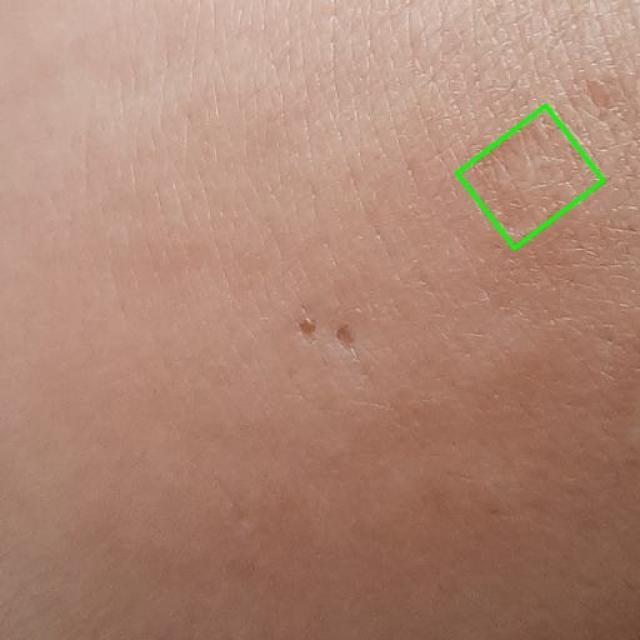Contact Dermatitis: (457, 105, 603, 248)
